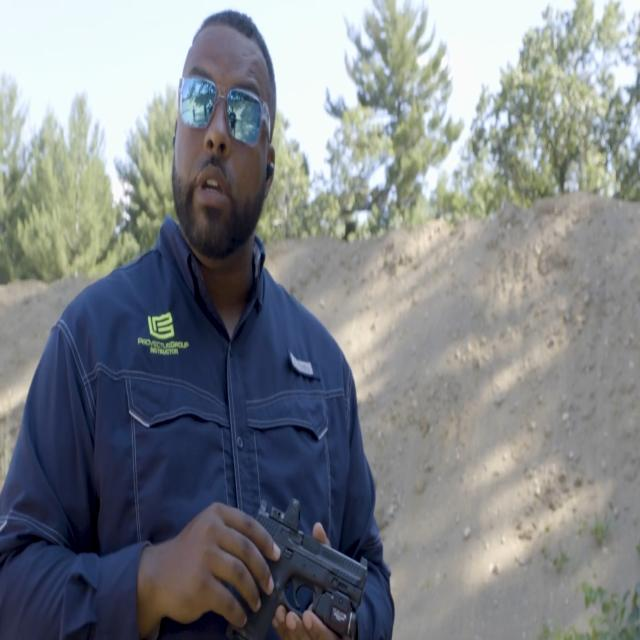Gun_Holder: (226, 431, 373, 640)
Person: (2, 0, 394, 640)
